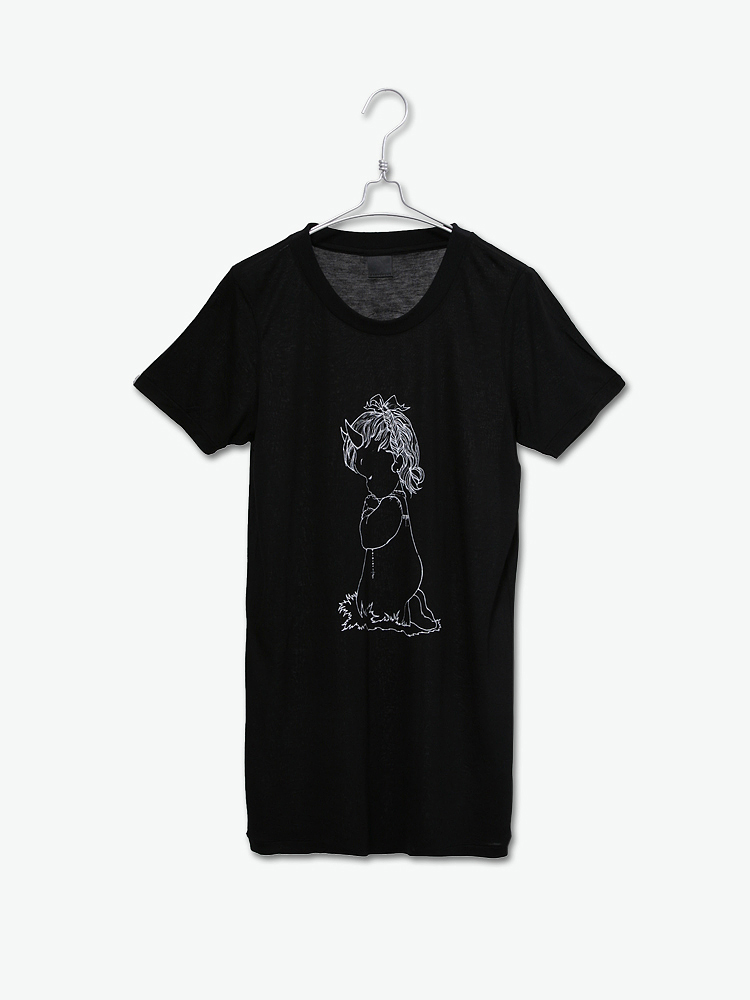flexible: (128, 218, 638, 871)
